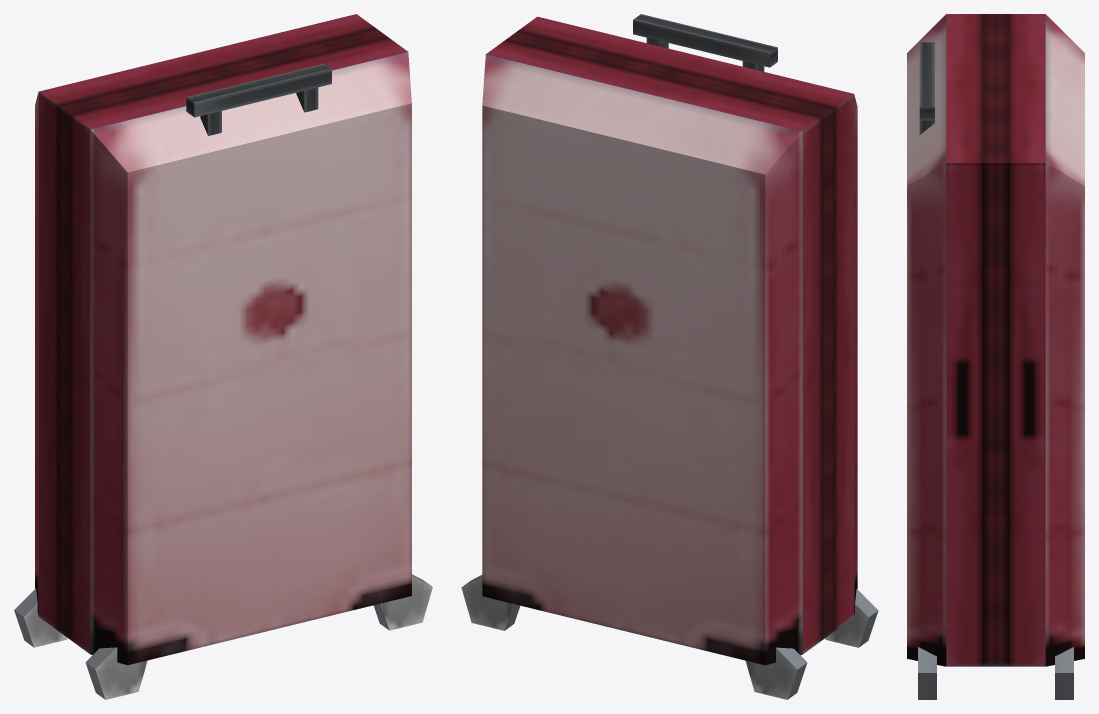
Rendered from Suitcase01B.obj.
3 renders of one model, left to right at view 1: azimuth 30°, elevation 25°; view 2: azimuth 150°, elevation 25°; view 3: azimuth 270°, elevation 25°, orthographic. The views are drawn at different scales.
Parts seen in each view (by area): view 1: Suitcase01.Bttm, Suitcase01.Top; view 2: Suitcase01.Top, Suitcase01.Bttm; view 3: Suitcase01.Bttm, Suitcase01.Top.
Boxes of the visible parts, bbox=[...] form: Suitcase01.Bttm: bbox=[64, 33, 432, 699]; Suitcase01.Top: bbox=[14, 14, 381, 647]; Suitcase01.Top: bbox=[461, 35, 828, 699]; Suitcase01.Bttm: bbox=[512, 14, 878, 647]; Suitcase01.Bttm: bbox=[907, 14, 995, 699]; Suitcase01.Top: bbox=[996, 14, 1084, 699].
Bounding box in the file's own units: 1.23 × 2 × 0.5833.
